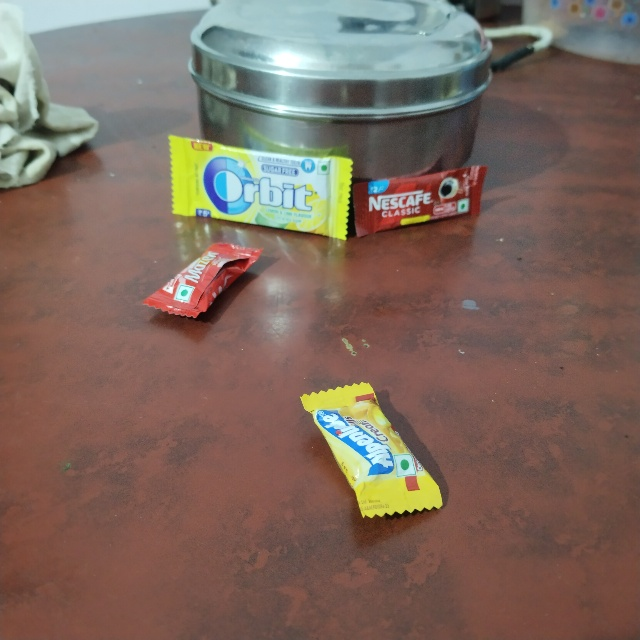Alpenlibe Creamfills: (298, 400, 405, 550)
Mazelo: (205, 217, 267, 330)
Nescafe Coffee: (351, 182, 485, 236)
Orbit: (170, 130, 357, 220)
